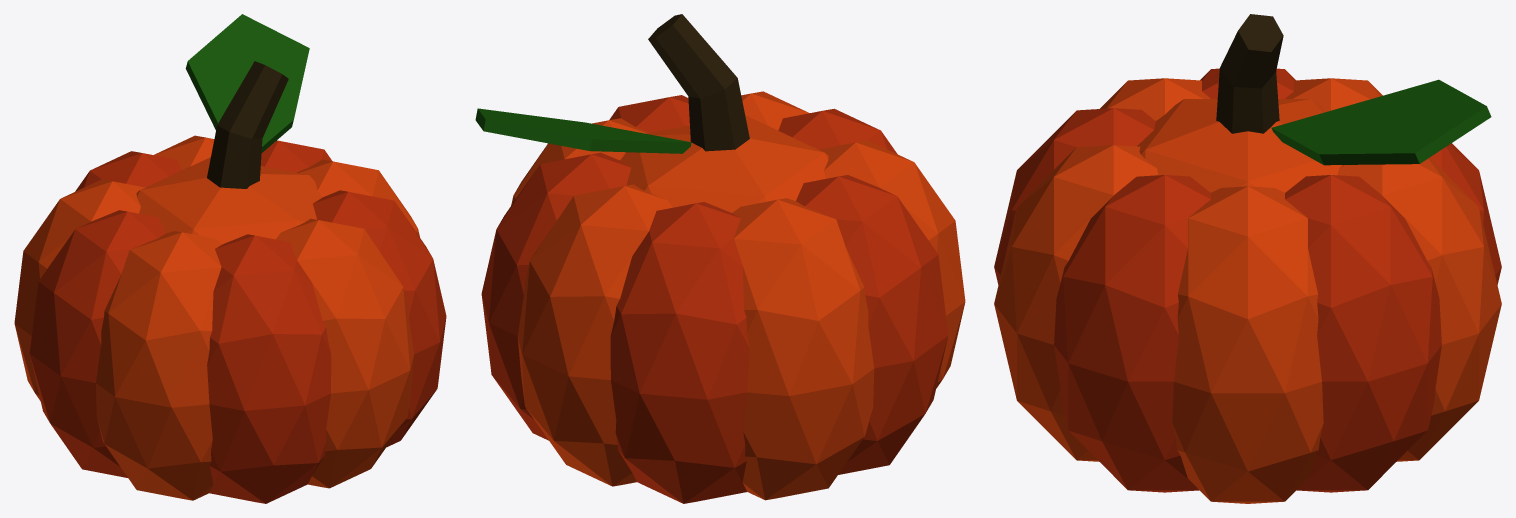
File: myw_pumpkin.obj
3 renders of one model, left to right at view 1: azimuth 30°, elevation 25°; view 2: azimuth 150°, elevation 25°; view 3: azimuth 270°, elevation 25°, orthographic. The views are drawn at different scales.
Parts seen in each view (by area): view 1: Pumpkin; view 2: Pumpkin; view 3: Pumpkin.
Boxes of the visible parts, bbox=[...] form: Pumpkin: bbox=[14, 14, 446, 503]; Pumpkin: bbox=[475, 14, 965, 503]; Pumpkin: bbox=[994, 14, 1501, 503].
Bounding box in the file's own units: 1.98 × 1.94 × 1.98.
